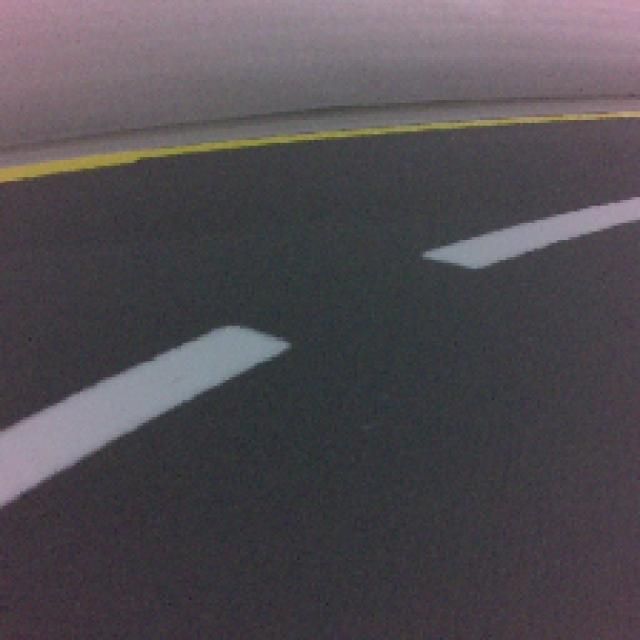Guard rail: (0, 320, 287, 503)
